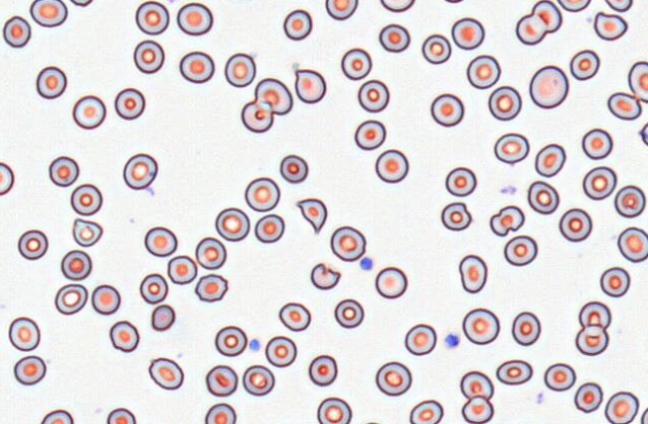PLT: (443, 332, 461, 348), (360, 256, 375, 272), (247, 339, 262, 352)
RBC: (528, 65, 569, 109), (254, 77, 292, 115), (462, 307, 499, 344), (244, 176, 280, 212), (330, 225, 366, 261), (122, 152, 157, 189), (375, 361, 411, 396), (214, 207, 250, 241), (176, 2, 213, 35), (135, 0, 169, 35), (466, 54, 500, 89), (487, 85, 521, 120), (72, 94, 106, 129), (558, 207, 592, 242), (582, 165, 616, 200), (148, 357, 184, 390), (374, 149, 408, 183), (430, 93, 464, 127), (604, 390, 639, 423), (179, 50, 214, 83), (493, 132, 529, 164), (8, 316, 40, 351), (224, 52, 256, 87), (617, 226, 648, 262), (374, 266, 407, 299), (451, 17, 484, 50), (54, 283, 88, 315), (503, 234, 537, 266), (527, 180, 559, 214), (534, 143, 566, 177), (35, 65, 67, 99), (357, 79, 389, 112), (240, 100, 273, 132), (340, 47, 372, 80), (264, 335, 297, 367), (205, 364, 238, 396), (614, 184, 645, 218), (133, 39, 164, 73), (511, 311, 541, 346), (29, 0, 67, 27), (515, 13, 547, 45), (242, 364, 274, 396), (404, 323, 436, 355), (581, 127, 613, 159), (70, 183, 102, 215), (531, 0, 562, 33), (575, 324, 608, 355), (195, 236, 226, 269), (214, 325, 247, 356), (114, 87, 145, 120), (459, 370, 493, 400), (593, 11, 627, 41), (607, 91, 642, 120), (60, 249, 92, 280), (17, 228, 48, 260), (354, 119, 386, 150), (48, 155, 79, 187), (144, 226, 177, 256), (13, 355, 46, 385), (278, 301, 311, 331), (194, 273, 228, 302), (495, 359, 532, 385), (569, 49, 600, 80), (599, 266, 630, 297), (109, 320, 139, 352), (578, 300, 611, 329), (316, 396, 351, 423), (421, 33, 451, 64), (254, 213, 285, 243), (445, 166, 476, 196), (2, 15, 31, 47), (308, 354, 337, 386), (543, 362, 575, 391), (378, 23, 410, 52), (283, 8, 312, 40), (167, 254, 197, 284), (334, 298, 364, 328), (139, 273, 168, 304), (91, 284, 120, 315), (574, 382, 603, 413), (461, 395, 493, 423), (279, 154, 308, 183), (627, 60, 647, 102), (409, 399, 443, 423), (204, 402, 236, 423), (325, 0, 358, 20), (106, 407, 136, 424), (0, 161, 14, 195), (40, 409, 73, 423), (380, 0, 415, 12), (557, 0, 591, 12), (604, 0, 633, 12), (639, 120, 648, 146), (69, 0, 93, 6), (640, 406, 647, 424), (358, 420, 387, 424), (220, 0, 256, 3), (511, 421, 539, 424), (442, 0, 465, 3)
Schistocyte: (292, 67, 331, 106), (296, 197, 328, 236), (490, 204, 525, 236), (441, 201, 475, 231), (72, 218, 104, 249), (309, 263, 342, 291), (151, 304, 177, 331)
